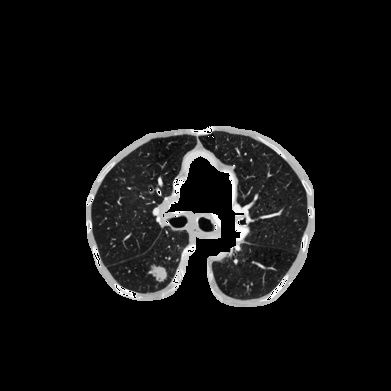PN: (151, 265, 167, 281)
